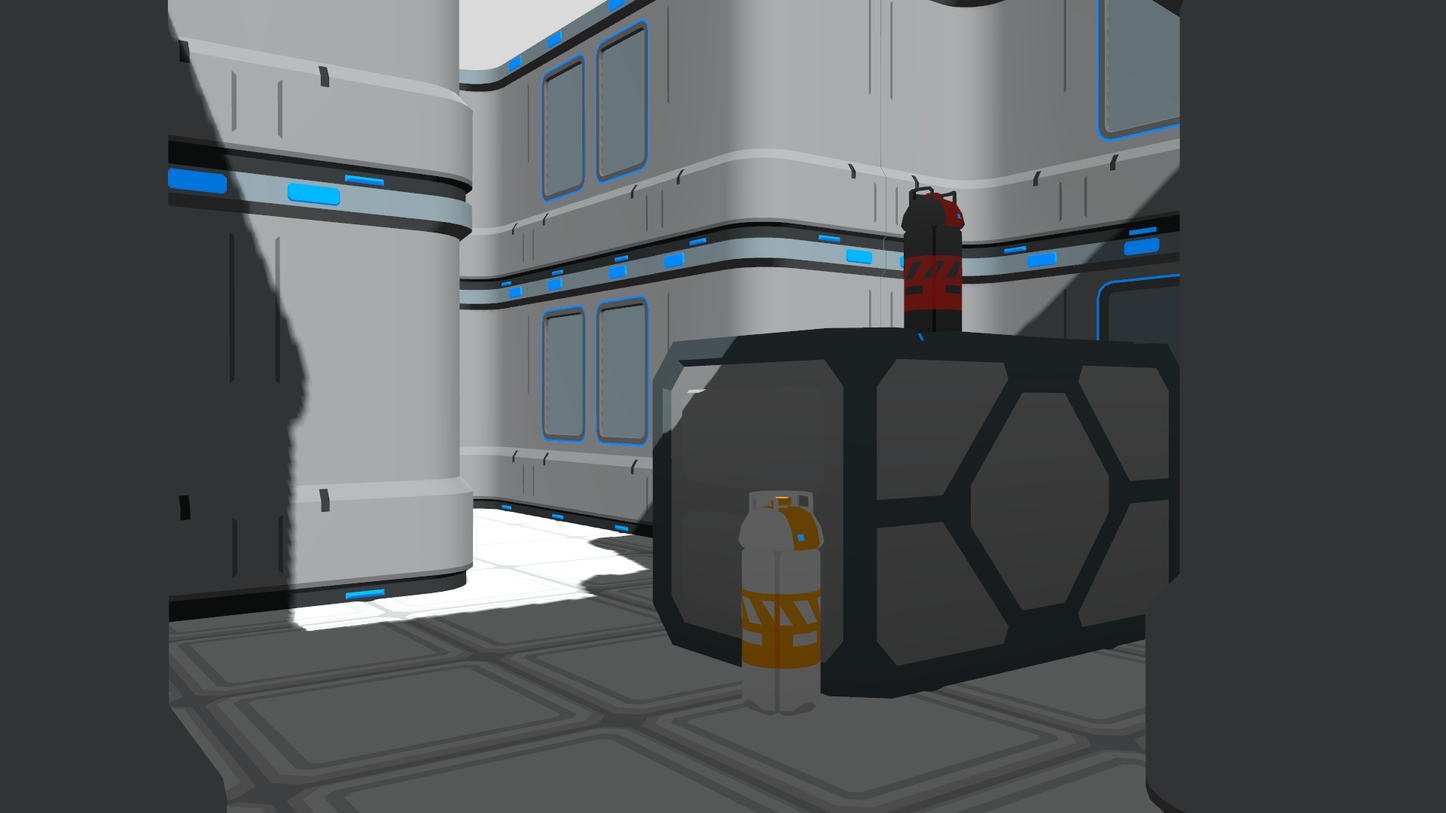red_barrel: (901, 181, 968, 338)
yellow_barrel: (738, 484, 823, 719)
